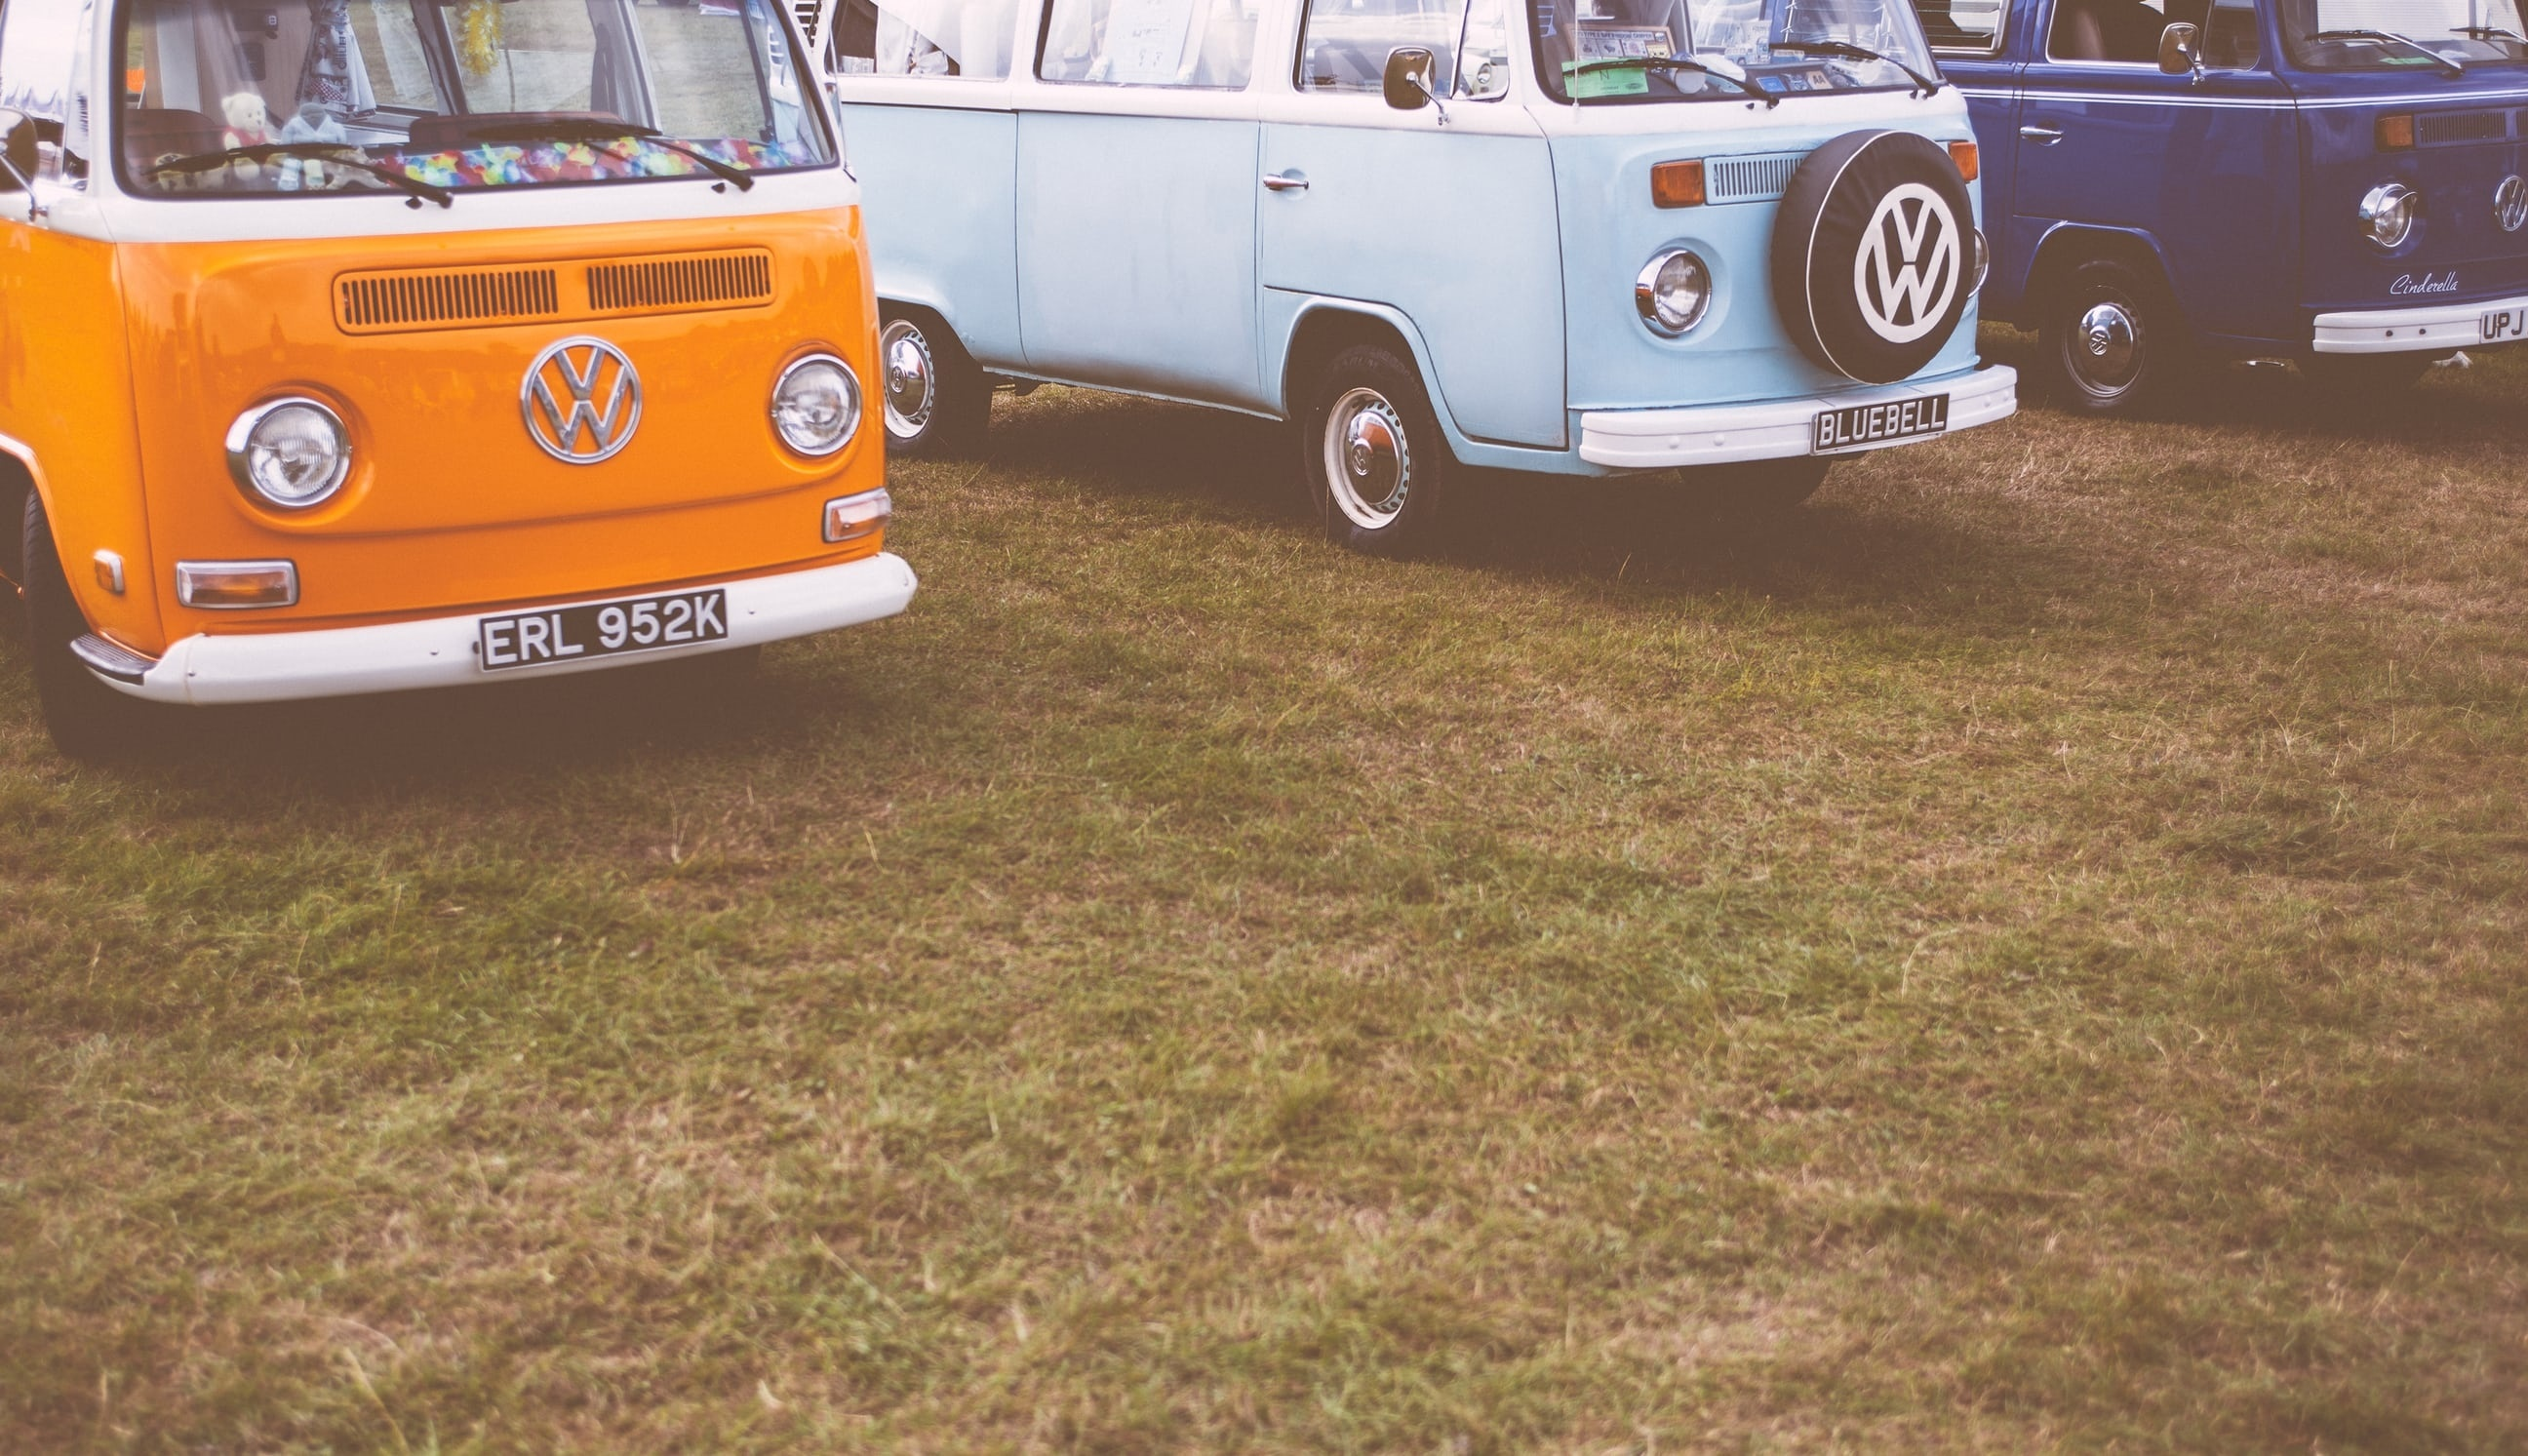plaka: (479, 586, 731, 679), (1809, 394, 1956, 449)
